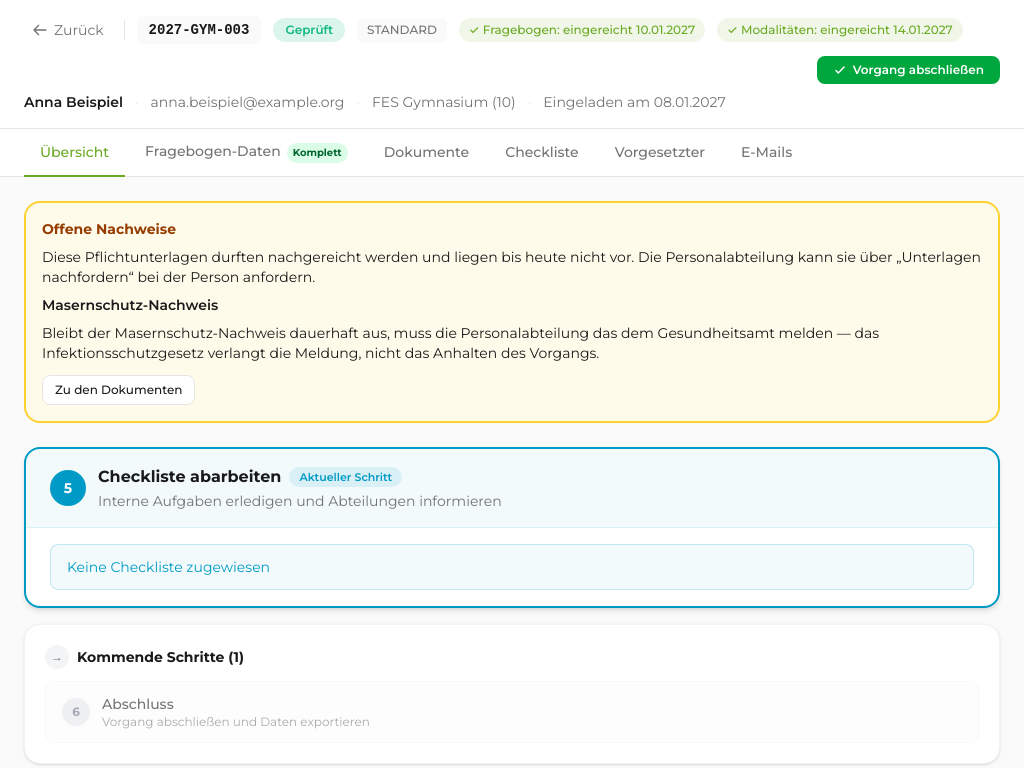
Test: Detailseite: „Vorgang abschließen“ mit Rückfrage › kein window.confirm: Dialog, 409 mit Liste, „Trotzdem abschließen“ schickt `bestaetigt` und lädt neu
Click the button "Vorgang abschließen": (908, 70) [817,56,1000,84]
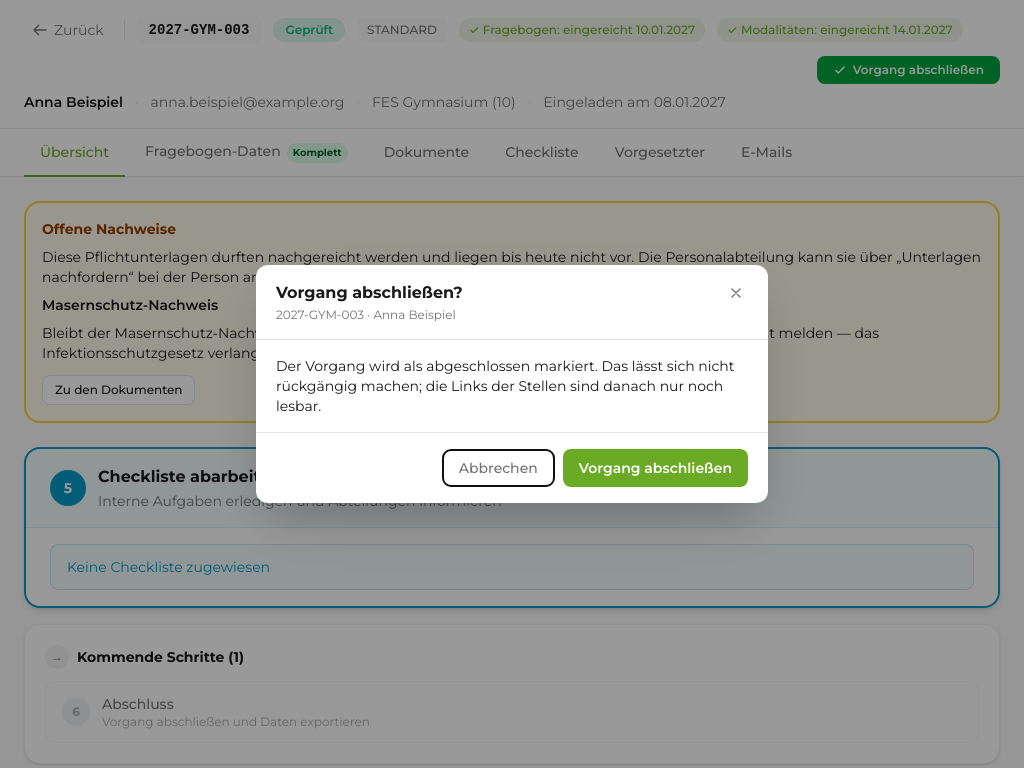
Expected: the dialog shows "Vorgang abschließen?", [276,283,463,302]
Click the button "Vorgang abschließen": (655, 468) [563,449,748,487]
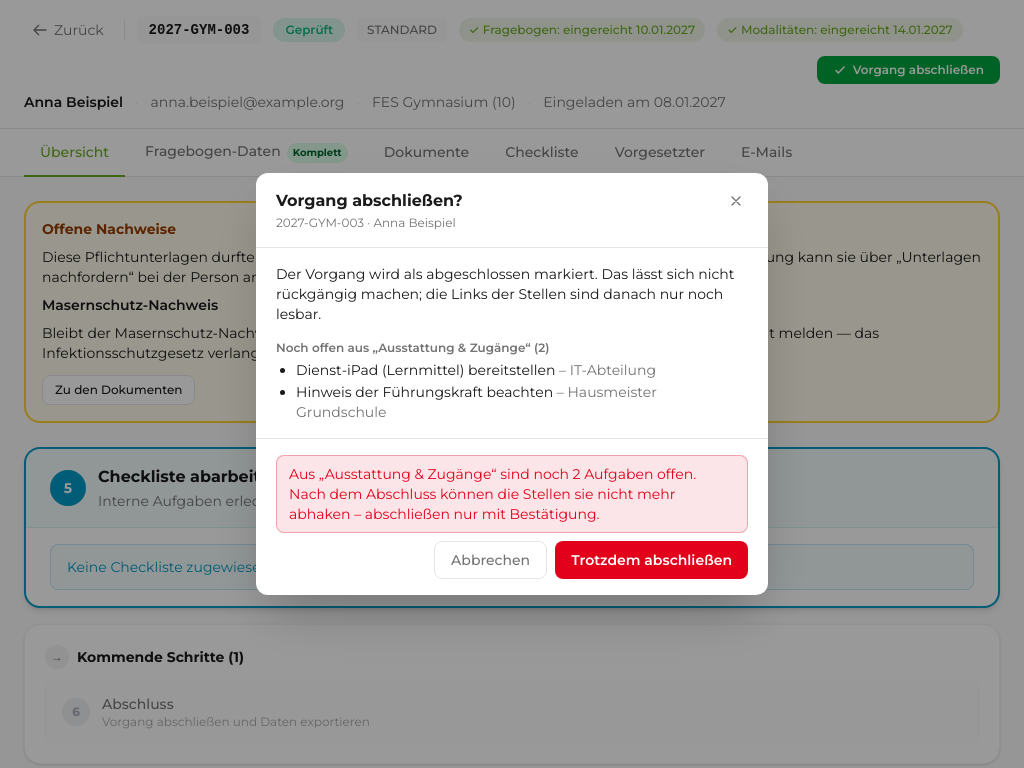
Click the button "Trotzdem abschließen": (652, 560) [555,541,748,579]
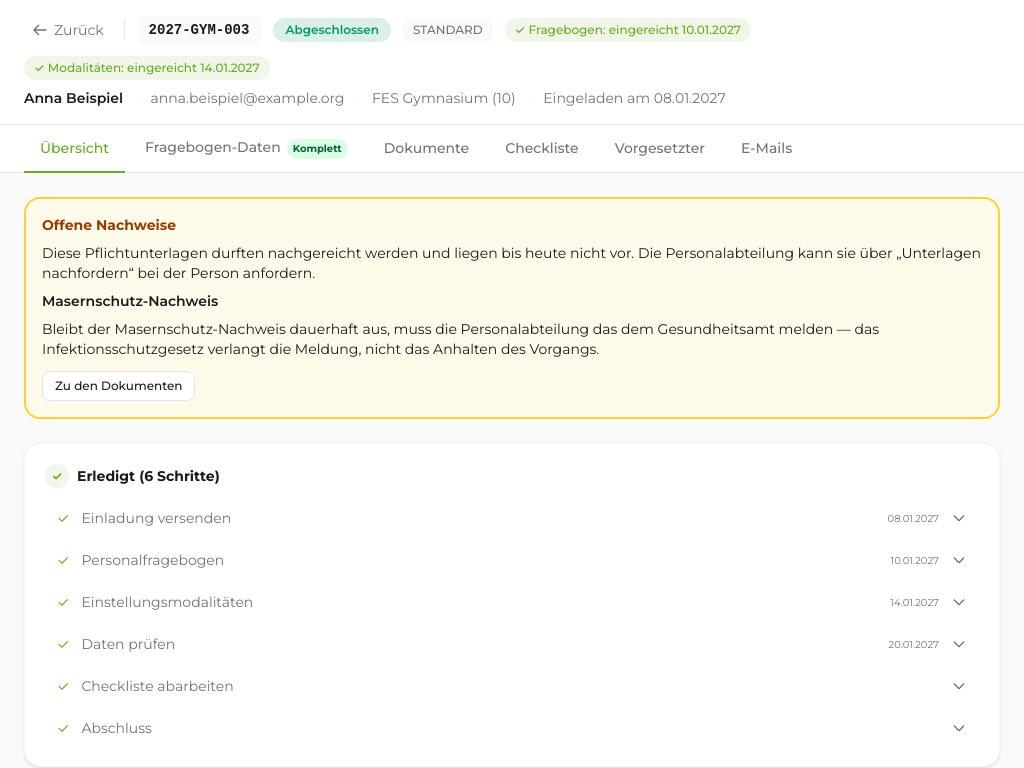
Expected: the dialog is gone
